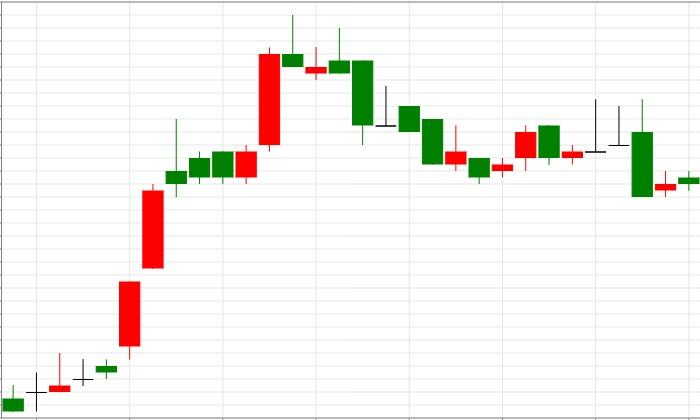shooting_star_fall: (119, 14, 303, 359)
